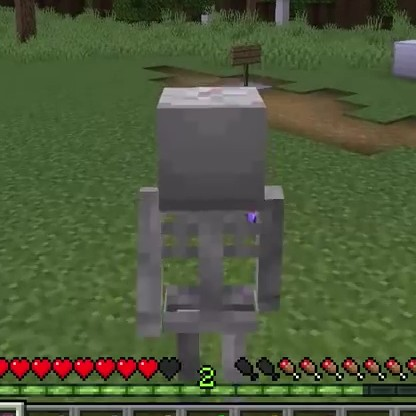skeleton: (136, 85, 288, 355)
